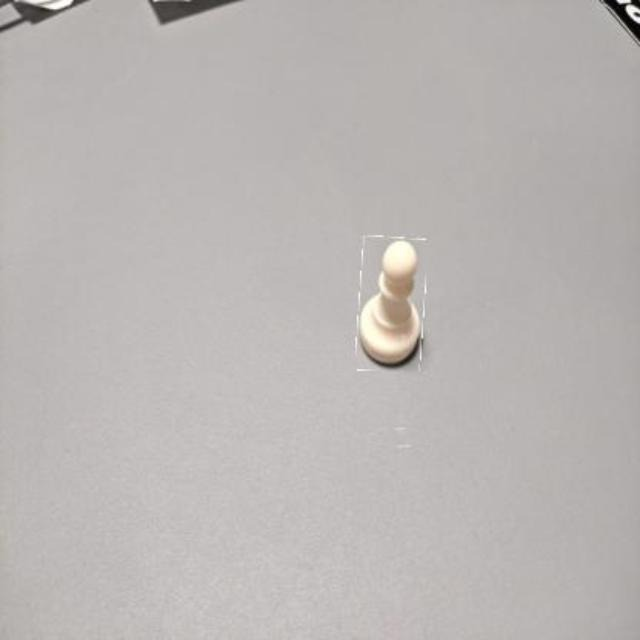white-pawn: (359, 237, 425, 371)
